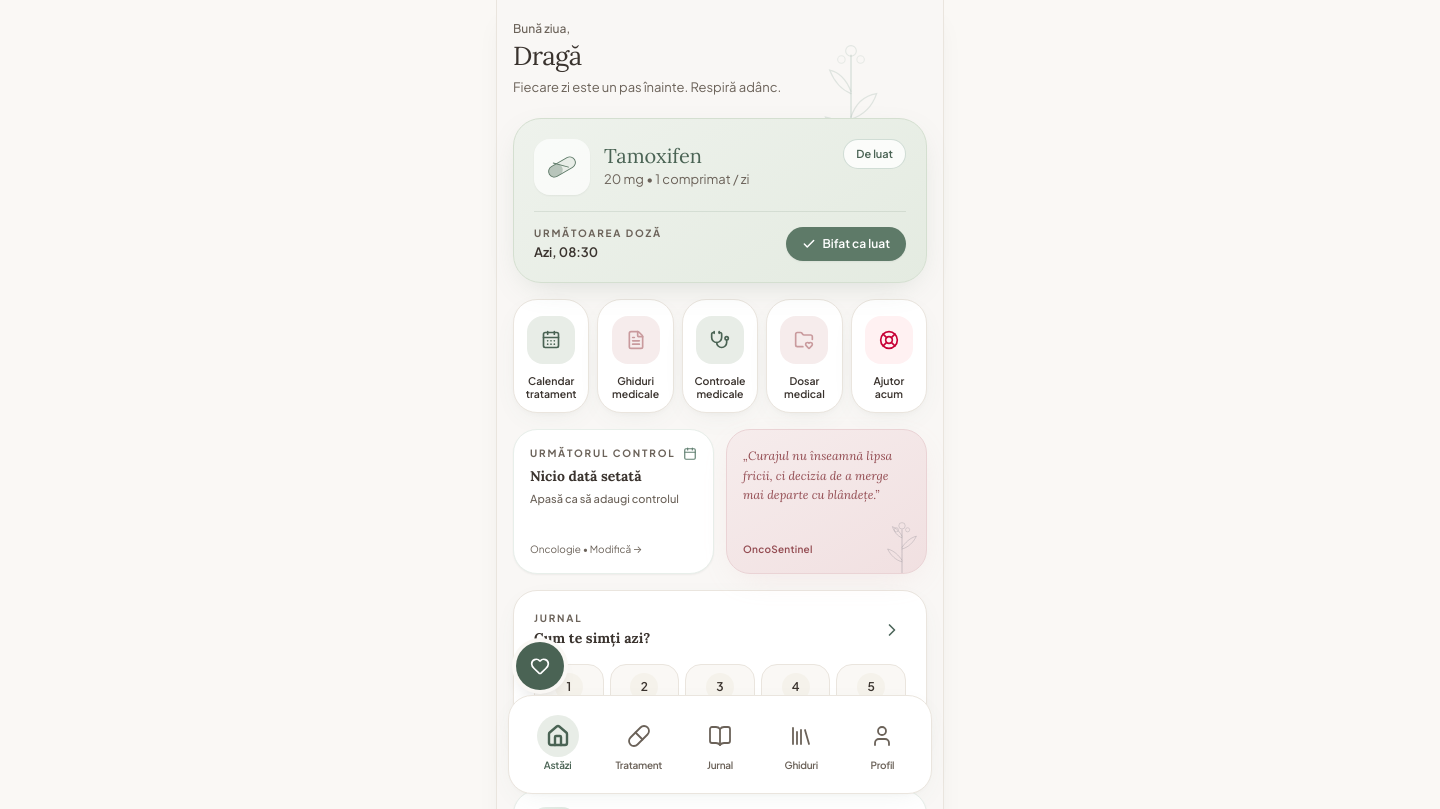
Test: Testarea cu pacientele › câmpul de întrebare pentru medic se poate micșora, ca „Adaugă” să rămână pe ecran
The width and height of the screenshot is (1440, 809).
Click the heading "Nicio dată setată": point(586, 476) [530,467,642,485]
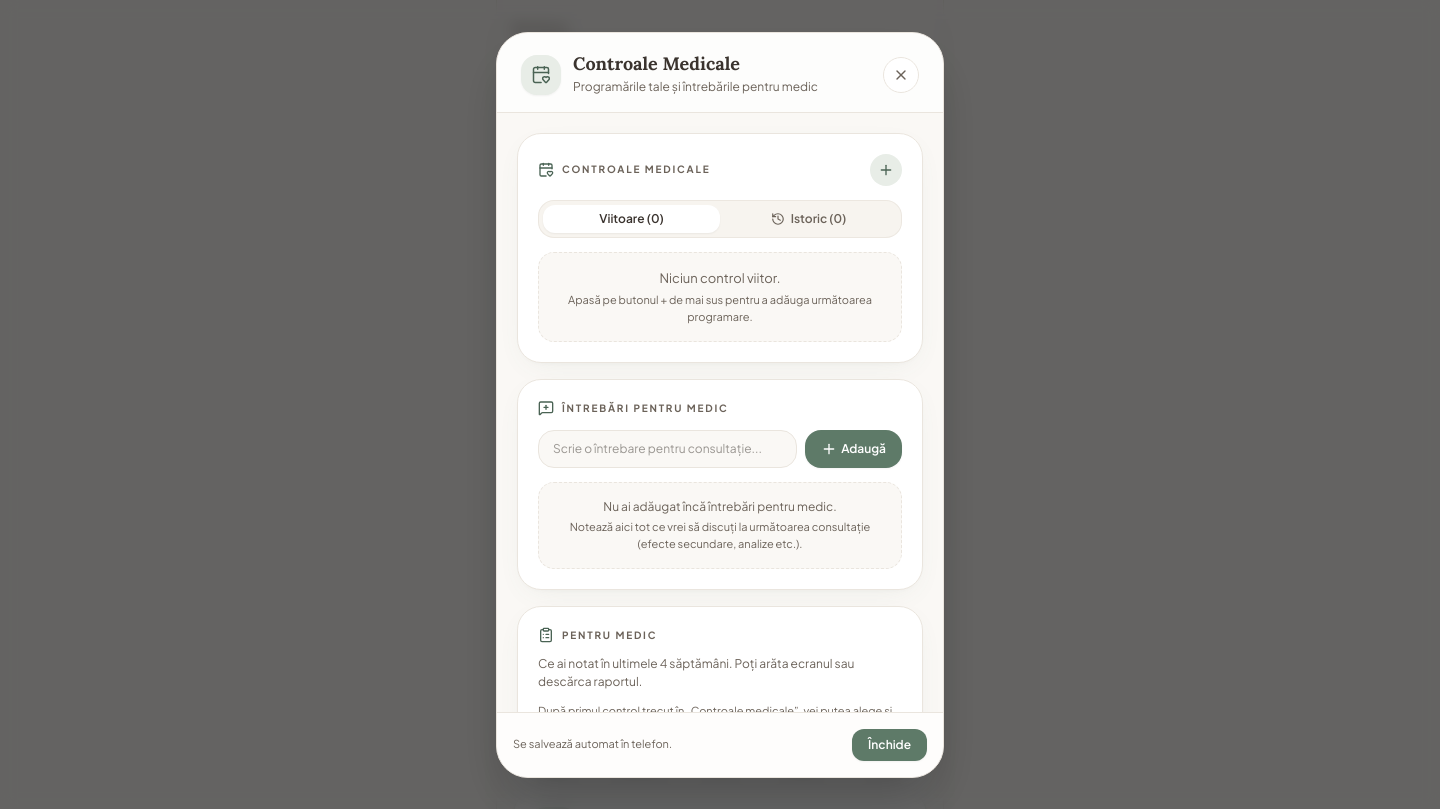
Expected: the text "Adaugă" is shown, [841,441,886,457]
